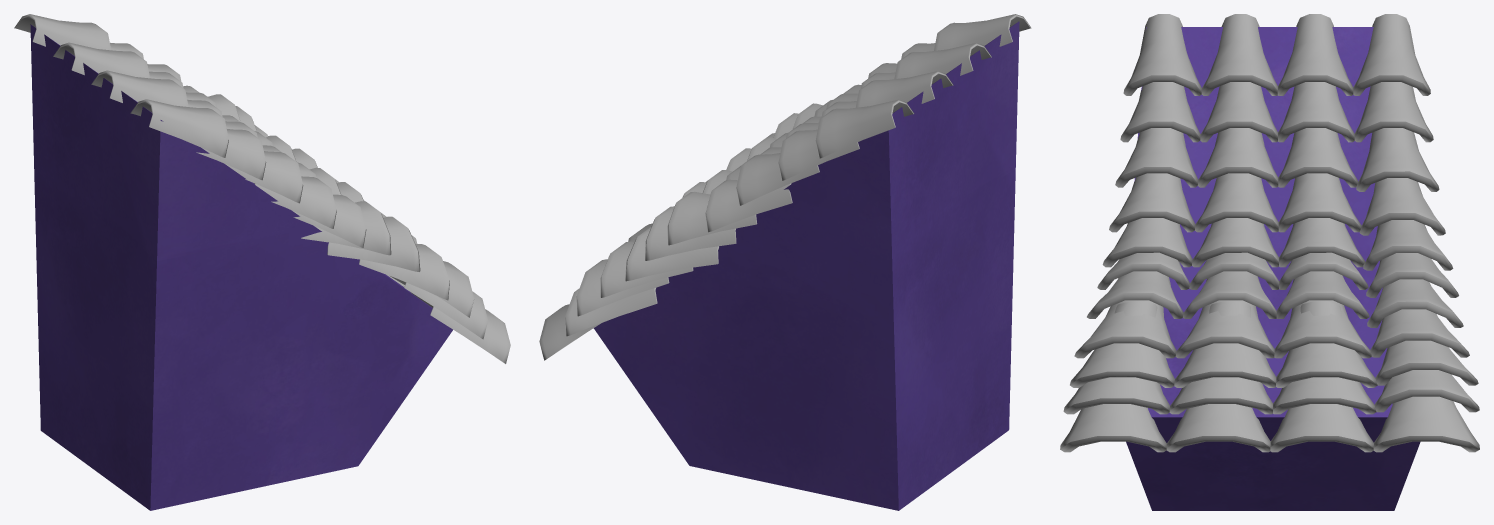
File: bat6.fbx
3 views of the same model, side by side, from view 1: azimuth 30°, elevation 25°; view 2: azimuth 150°, elevation 25°; view 3: azimuth 270°, elevation 25° (orthographic). The views are drawn at different scales.
Parts seen in each view (by area): view 1: pCube68; view 2: pCube68; view 3: pCube68.
Part boxes in pixels (x1,y1,x2,y2): pCube68: [14, 14, 510, 510]; pCube68: [539, 14, 1031, 510]; pCube68: [1060, 14, 1479, 510].
Size of the model in its own units: 8.35 by 9.9 by 9.38.
